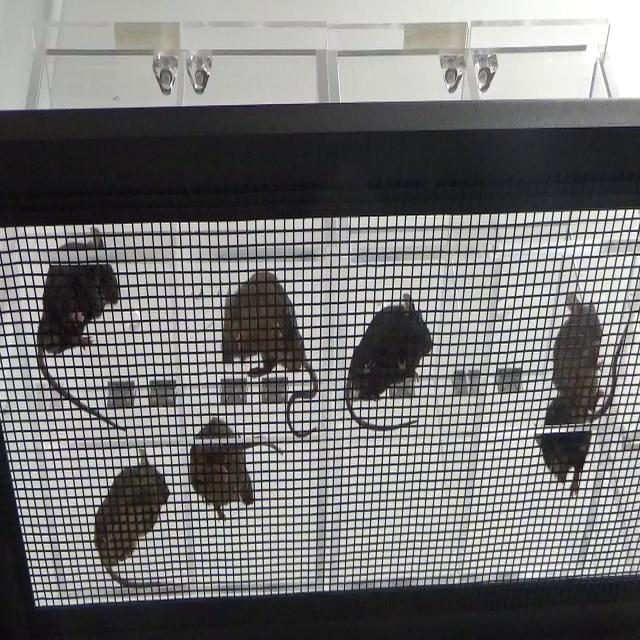lick claw: (544, 285, 624, 406)
